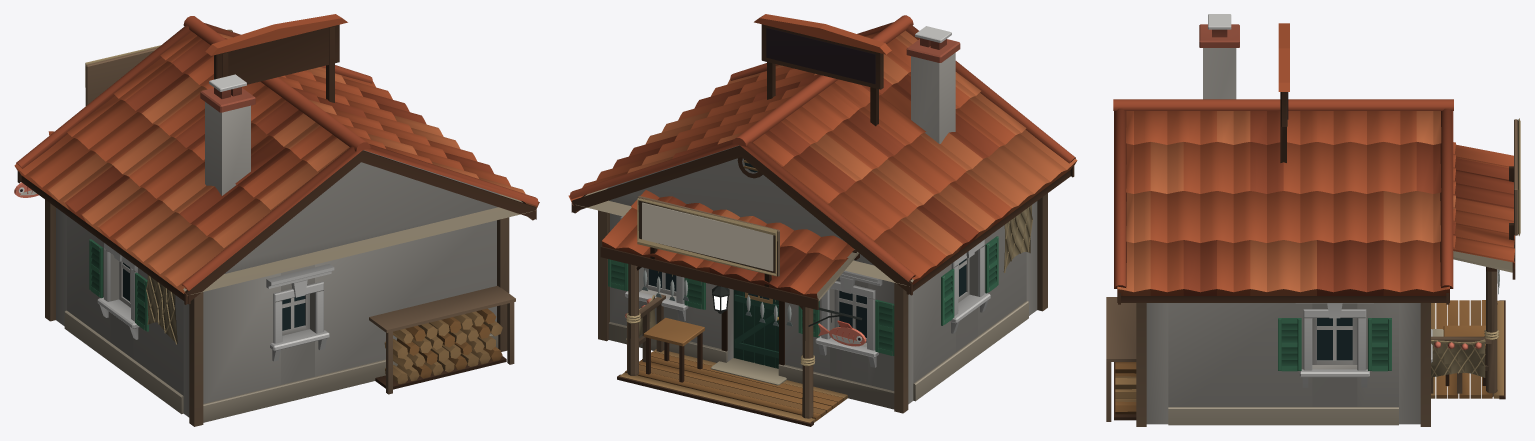
3 renders of one model, left to right at view 1: azimuth 30°, elevation 25°; view 2: azimuth 150°, elevation 25°; view 3: azimuth 270°, elevation 25°, orthographic. The views are drawn at different scales.
Visible parts, largest first — view 1: static_semyon; view 2: static_semyon; view 3: static_semyon.
Boxes of the visible parts, bbox=[...] form: static_semyon: bbox=[14, 14, 539, 426]; static_semyon: bbox=[568, 14, 1077, 426]; static_semyon: bbox=[1106, 14, 1520, 426].
Bounding box in the file's own units: 6.34 × 5.22 × 6.47.
